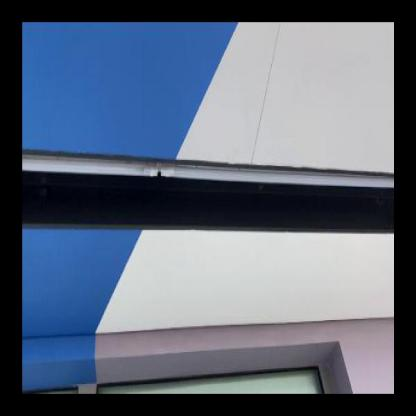light_off: (25, 105, 393, 216)
